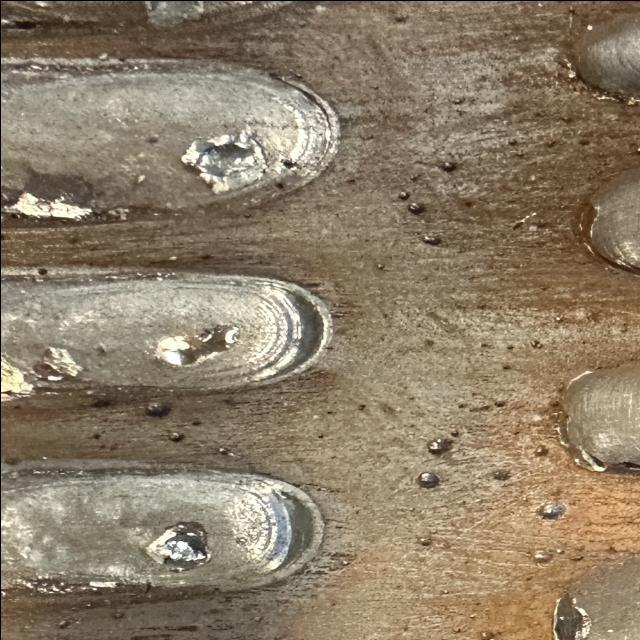Spatters: (535, 501, 565, 519), (427, 438, 452, 455), (145, 402, 170, 418), (530, 549, 553, 565), (417, 471, 438, 488), (407, 203, 425, 215), (437, 161, 457, 171), (492, 470, 510, 480), (420, 236, 440, 245), (478, 630, 495, 640), (533, 445, 548, 456), (168, 431, 183, 441), (530, 339, 542, 349), (394, 15, 407, 24), (397, 191, 408, 200), (417, 538, 432, 544), (545, 141, 555, 148), (493, 401, 505, 406), (578, 139, 588, 145), (507, 140, 517, 145), (502, 365, 510, 370), (450, 431, 458, 436), (457, 404, 465, 408), (507, 345, 513, 349)
